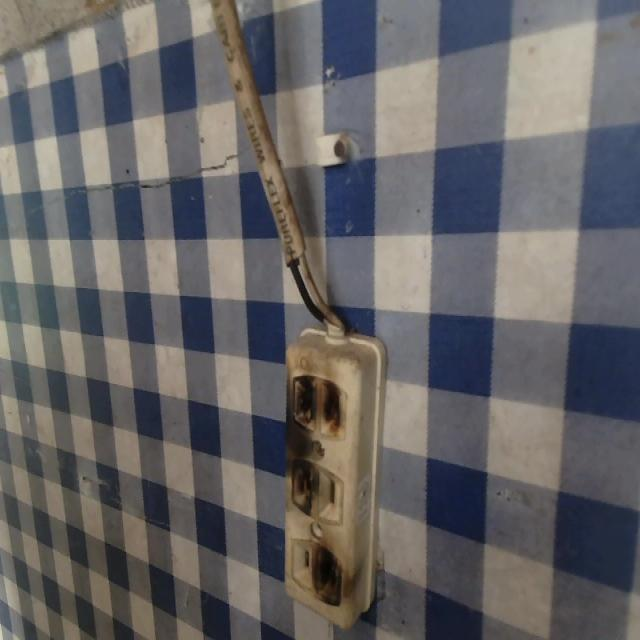-: (289, 367, 348, 442), (309, 539, 355, 612), (289, 453, 318, 518)
